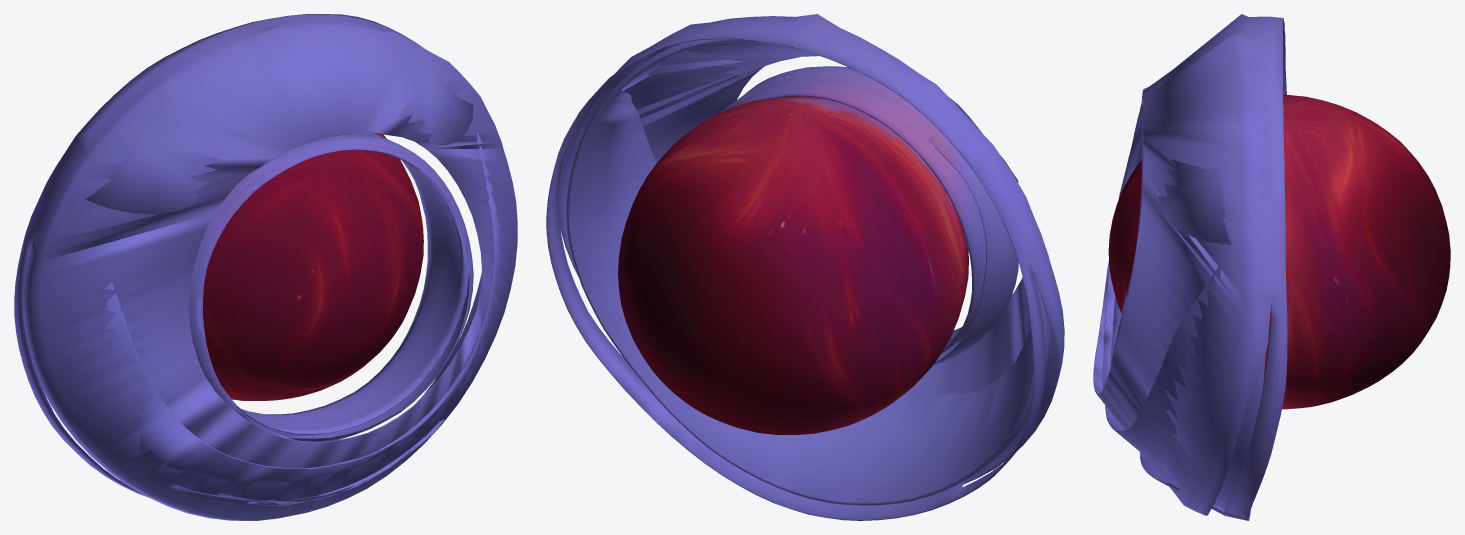
The model's file is stage9_blackhole_20260527.glb.
The picture shows the model from 3 angles, left to right: view 1: azimuth 30°, elevation 25°; view 2: azimuth 150°, elevation 25°; view 3: azimuth 270°, elevation 25°; orthographic projection. The views are drawn at different scales.
Visible parts, largest first — view 1: material; view 2: material; view 3: material.
Boxes of the visible parts, x1,y1,x2,y2 form: material: [14, 14, 517, 520]; material: [546, 14, 1064, 520]; material: [1093, 14, 1450, 520].
Bounding box in the file's own units: 1.9 × 1.8 × 1.27.
Materials: 1 (1 with a texture image).
